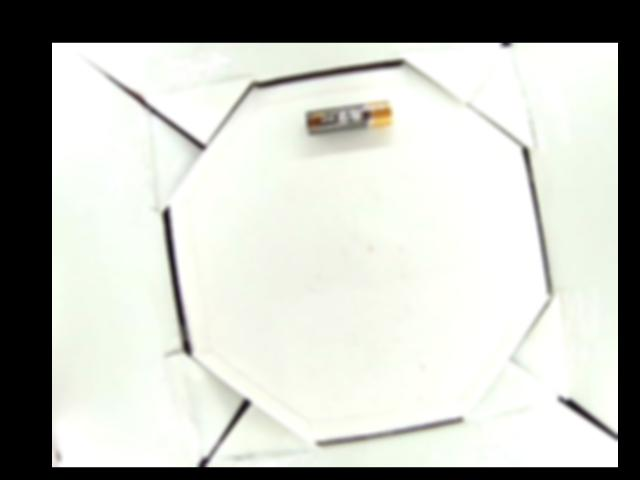Battery: (305, 99, 392, 134)
